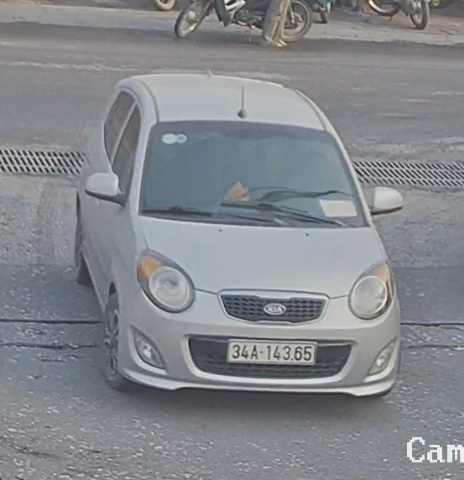vehicle plate: (223, 335, 320, 368)
